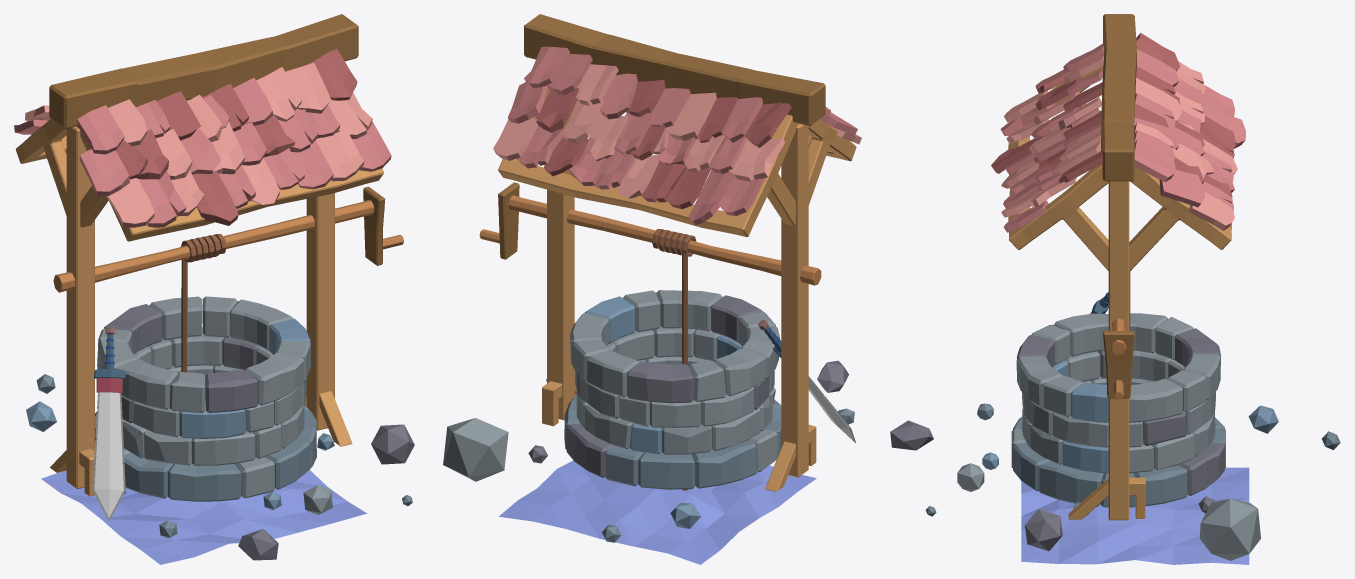
The model's file is well.glb.
The picture shows the model from 3 angles, left to right: view 1: azimuth 30°, elevation 25°; view 2: azimuth 150°, elevation 25°; view 3: azimuth 270°, elevation 25°; orthographic projection. The views are drawn at different scales.
Visible parts, largest first — view 1: Cube.004_2, Plane.024_4, Cube.003_11, Cylinder.001_7, Cube.002_10, Cube_8, Cube.001_9, Cylinder.002_24, Cylinder_6, Icosphere.001_13, Icosphere.004_16, Icosphere_12 (+1 smaller); view 2: Cube.004_2, Plane.024_4, Cube.003_11, Cylinder.001_7, Cube_8, Cube.002_10, Cube.001_9, Icosphere.007_19, Cylinder_6, Cylinder.002_24, Icosphere.004_16, Icosphere.005_17; view 3: Plane.024_4, Cube.004_2, Cube.003_11, Cylinder.001_7, Cube_8, Cube.002_10, Cube.001_9, Icosphere.007_19, Icosphere.001_13, Icosphere.004_16, Icosphere_12, Icosphere.005_17.
Part boxes in pixels (bbox=[...]): Cube.004_2: bbox=[15, 14, 403, 496]; Plane.024_4: bbox=[14, 49, 391, 227]; Cube.003_11: bbox=[97, 296, 310, 412]; Cylinder.001_7: bbox=[41, 470, 367, 564]; Cube.002_10: bbox=[121, 327, 306, 438]; Cube_8: bbox=[95, 393, 316, 501]; Cube.001_9: bbox=[122, 364, 304, 465]; Cylinder.002_24: bbox=[92, 327, 125, 521]; Cylinder_6: bbox=[181, 234, 226, 372]; Icosphere.001_13: bbox=[371, 424, 414, 464]; Icosphere.004_16: bbox=[238, 529, 278, 560]; Icosphere_12: bbox=[303, 485, 332, 514]; Cube.004_2: bbox=[479, 14, 856, 491]; Plane.024_4: bbox=[493, 46, 861, 225]; Cube.003_11: bbox=[570, 290, 779, 403]; Cylinder.001_7: bbox=[499, 460, 816, 564]; Cube_8: bbox=[564, 396, 781, 489]; Cube.002_10: bbox=[575, 325, 774, 427]; Cube.001_9: bbox=[576, 355, 775, 454]; Icosphere.007_19: bbox=[443, 418, 508, 481]; Cylinder_6: bbox=[652, 229, 696, 490]; Cylinder.002_24: bbox=[758, 320, 855, 442]; Icosphere.004_16: bbox=[817, 360, 848, 392]; Icosphere.005_17: bbox=[670, 502, 700, 528]; Plane.024_4: bbox=[991, 33, 1245, 232]; Cube.004_2: bbox=[1008, 14, 1231, 520]; Cube.003_11: bbox=[1016, 313, 1220, 422]; Cylinder.001_7: bbox=[1021, 467, 1249, 564]; Cube_8: bbox=[1011, 417, 1225, 507]; Cube.002_10: bbox=[1022, 350, 1215, 447]; Cube.001_9: bbox=[1022, 376, 1215, 473]; Icosphere.007_19: bbox=[1199, 499, 1260, 560]; Icosphere.001_13: bbox=[1025, 509, 1062, 551]; Icosphere.004_16: bbox=[890, 420, 933, 450]; Icosphere_12: bbox=[957, 463, 984, 491]; Icosphere.005_17: bbox=[1248, 405, 1278, 433].
Size of the model in its own units: 23.83 by 30.57 by 28.24.
